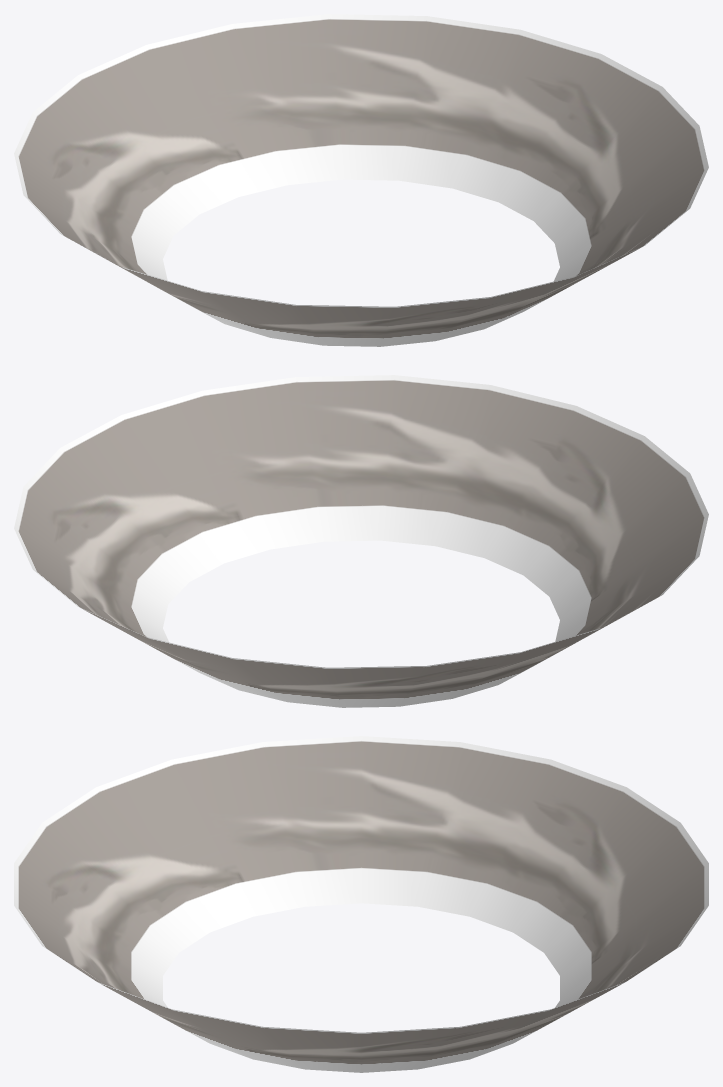
The model's file is hui1.FBX.
3 renders of one model, top to bottom at view 1: azimuth 30°, elevation 25°; view 2: azimuth 150°, elevation 25°; view 3: azimuth 270°, elevation 25°, orthographic.
Parts seen in each view (by area): view 1: Cylinder001; view 2: Cylinder001; view 3: Cylinder001.
Boxes of the visible parts, bbox=[...] form: Cylinder001: bbox=[14, 14, 708, 346]; Cylinder001: bbox=[14, 375, 708, 707]; Cylinder001: bbox=[14, 736, 708, 1072].
Bounding box in the file's own units: 3.3 × 3.26 × 0.5375.
